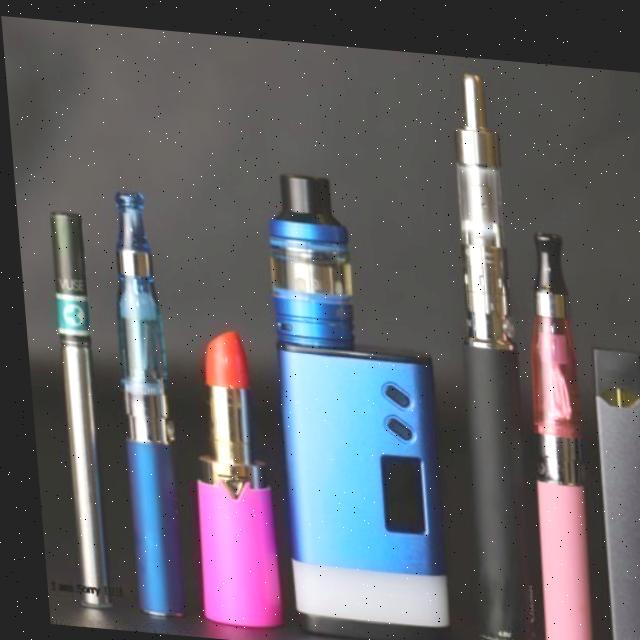vape: (253, 163, 450, 640), (436, 59, 531, 640), (509, 220, 590, 640), (103, 184, 181, 618), (44, 210, 104, 611), (584, 335, 640, 640)
